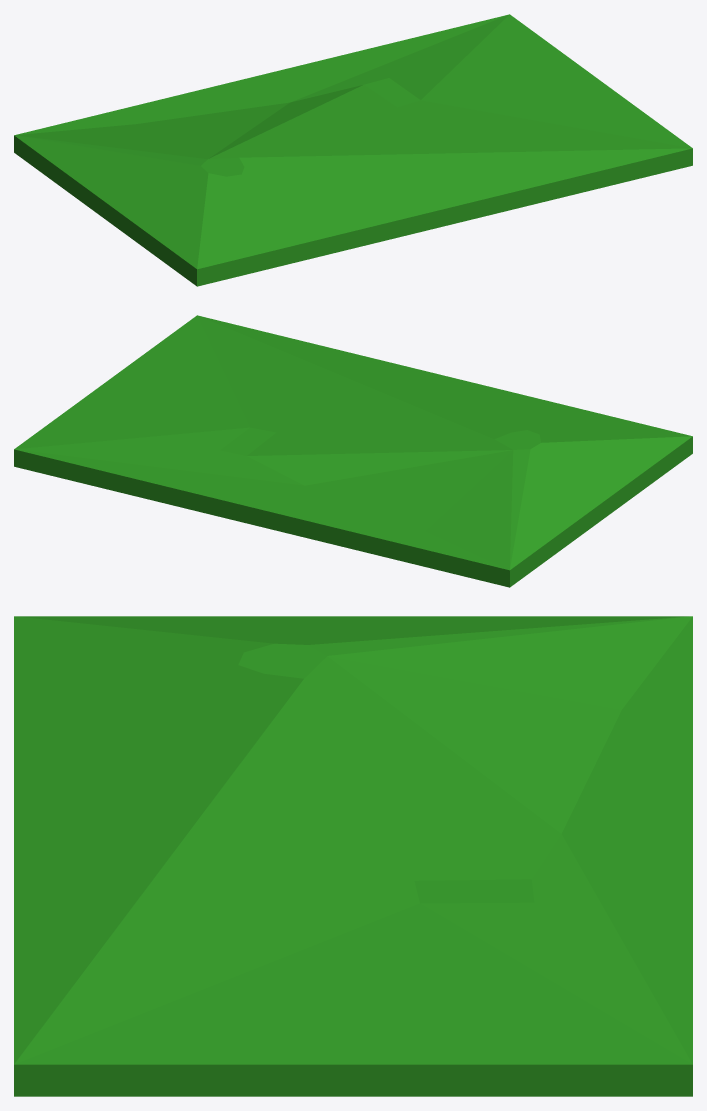
The model's file is Terrain.fbx.
3 renders of one model, top to bottom at view 1: azimuth 30°, elevation 25°; view 2: azimuth 150°, elevation 25°; view 3: azimuth 270°, elevation 25°, orthographic. The views are drawn at different scales.
Parts seen in each view (by area): view 1: Cube; view 2: Cube; view 3: Cube.
Boxes of the visible parts, x1,y1,x2,y2 form: Cube: (14,14,692,286); Cube: (14,315,692,587); Cube: (14,616,692,1096).
Size of the model in its own units: 6000 by 489 by 3838.
